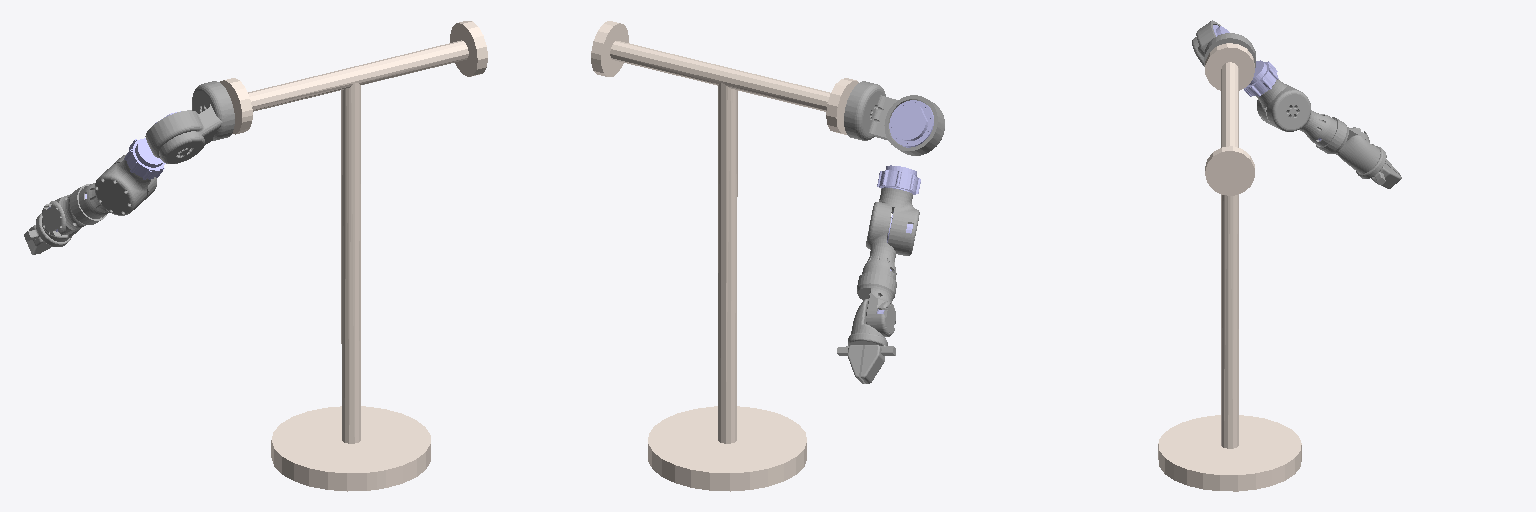
--- Facts derived from the render (not from the file) ---
Views: 3 orthographic renders of the robot side by side, from view 1: azimuth 30°, elevation 25°; view 2: azimuth 150°, elevation 25°; view 3: azimuth 270°, elevation 25°.
Robot: humanoid_arm_5dof_1.2 — 23 links, 22 joints (6 revolute, 2 prismatic, 14 fixed); root link base_link; default pose: every joint at zero.
Visible links, largest first — view 1: base_link, left_shoulder_pitch, left_shoulder_yaw, left_wrist, left_shoulder_yaw_rs03_actuator, left_elbow; view 2: base_link, left_shoulder_pitch, left_wrist, left_elbow, left_shoulder_yaw, left_shoulder_roll_rs04_actuator, left_shoulder_yaw_rs03_actuator, left_palm, left_palm_left_finger; view 3: base_link, left_elbow, left_shoulder_pitch, left_hand, left_shoulder_yaw_rs03_actuator, left_wrist.
Boxes of the visible links, x1=… form: base_link: x1=220, y1=21, x2=487, y2=491; left_shoulder_pitch: x1=145, y1=81, x2=234, y2=163; left_shoulder_yaw: x1=95, y1=160, x2=150, y2=215; left_wrist: x1=42, y1=184, x2=106, y2=235; left_shoulder_yaw_rs03_actuator: x1=124, y1=138, x2=165, y2=179; left_elbow: x1=79, y1=154, x2=156, y2=218; base_link: x1=591, y1=21, x2=858, y2=491; left_shoulder_pitch: x1=844, y1=81, x2=944, y2=155; left_wrist: x1=857, y1=272, x2=896, y2=336; left_elbow: x1=862, y1=202, x2=896, y2=279; left_shoulder_yaw: x1=879, y1=188, x2=919, y2=255; left_shoulder_roll_rs04_actuator: x1=889, y1=100, x2=933, y2=147; left_shoulder_yaw_rs03_actuator: x1=877, y1=165, x2=920, y2=194; left_palm: x1=837, y1=333, x2=895, y2=355; left_palm_left_finger: x1=861, y1=345, x2=884, y2=383; base_link: x1=1158, y1=43, x2=1301, y2=491; left_elbow: x1=1266, y1=87, x2=1336, y2=146; left_shoulder_pitch: x1=1192, y1=20, x2=1255, y2=67; left_hand: x1=1337, y1=135, x2=1380, y2=173; left_shoulder_yaw_rs03_actuator: x1=1244, y1=60, x2=1278, y2=96; left_wrist: x1=1316, y1=117, x2=1369, y2=154.
Size in the robot's own frame: 1.07 by 0.677 by 1.12 metres.
20 mesh visuals loaded from 23 distinct referenced files (20 binary STL); not drawn: 3 (reference not matched to a file when rendering).

URDF robot description (humanoid_arm_5dof_1.2):
<?xml version="1.0" encoding="utf-8"?>
<!-- This URDF was automatically created by SolidWorks to URDF Exporter! Originally created by Stephen Brawner ([email redacted]) 
     Commit Version: 1.6.0-4-g7f85cfe  Build Version: 1.6.7995.38578
     For more information, please see http://wiki.ros.org/sw_urdf_exporter -->
<robot
  name="humanoid_arm_5dof_1.2">
  <link
    name="base_link">
    <inertial>
      <origin
        xyz="-7.688E-08 -6.1286E-07 0.33673"
        rpy="0 0 0" />
      <mass
        value="81.158" />
      <inertia
        ixx="15.828"
        ixy="-6.0733E-06"
        ixz="3.5965E-06"
        iyy="17.002"
        iyz="3.1799E-05"
        izz="2.1791" />
    </inertial>
    <visual>
      <origin
        xyz="0 0 0"
        rpy="0 0 0" />
      <geometry>
        <mesh
          filename="package://humanoid_arm_5dof_1.2/meshes/base_link.STL" />
      </geometry>
      <material
        name="">
        <color
          rgba="1 0.94902 0.9098 1" />
      </material>
    </visual>
    <collision>
      <origin
        xyz="0 0 0"
        rpy="0 0 0" />
      <geometry>
        <mesh
          filename="package://humanoid_arm_5dof_1.2/meshes/base_link.STL" />
      </geometry>
    </collision>
  </link>
  <link
    name="left_shoulder_pitch_rs04_actuator">
    <inertial>
      <origin
        xyz="-0.024532 1.1728E-12 -9.6234E-13"
        rpy="0 0 0" />
      <mass
        value="1.345" />
      <inertia
        ixx="0.00087641"
        ixy="-1.1503E-17"
        ixz="-1.4762E-16"
        iyy="0.0005424"
        iyz="-3.5471E-06"
        izz="0.00054116" />
    </inertial>
    <visual>
      <origin
        xyz="0 0 0"
        rpy="0 0 0" />
      <geometry>
        <mesh
          filename="package://humanoid_arm_5dof_1.2/meshes/left_shoulder_pitch_rs04_actuator.STL" />
      </geometry>
      <material
        name="">
        <color
          rgba="0.82353 0.82353 1 1" />
      </material>
    </visual>
    <collision>
      <origin
        xyz="0 0 0"
        rpy="0 0 0" />
      <geometry>
        <mesh
          filename="package://humanoid_arm_5dof_1.2/meshes/left_shoulder_pitch_rs04_actuator.STL" />
      </geometry>
    </collision>
  </link>
  <joint
    name="left_shoulder_pitch_rs04_actuator_fixture_link"
    type="fixed">
    <origin
      xyz="-0.407699999999937 0 1.05000000000147"
      rpy="-0.638663834670851 0 3.14159265358979" />
    <parent
      link="base_link" />
    <child
      link="left_shoulder_pitch_rs04_actuator" />
    <axis
      xyz="0 0 0" />
  </joint>
  <link
    name="left_shoulder_pitch_rs04_flange">
    <inertial>
      <origin
        xyz="-0.0018894 -9.5572E-05 2.5808E-05"
        rpy="0 0 0" />
      <mass
        value="0.0075" />
      <inertia
        ixx="2.3623E-06"
        ixy="8.4902E-21"
        ixz="-1.0813E-20"
        iyy="1.1941E-06"
        iyz="3.7058E-21"
        izz="1.1941E-06" />
    </inertial>
    <visual>
      <origin
        xyz="0 0 0"
        rpy="0 0 0" />
      <geometry>
        <mesh
          filename="package://humanoid_arm_5dof_1.2/meshes/left_shoulder_pitch_rs04_flange.STL" />
      </geometry>
      <material
        name="">
        <color
          rgba="0.82353 0.82353 1 1" />
      </material>
    </visual>
    <collision>
      <origin
        xyz="0 0 0"
        rpy="0 0 0" />
      <geometry>
        <mesh
          filename="package://humanoid_arm_5dof_1.2/meshes/left_shoulder_pitch_rs04_flange.STL" />
      </geometry>
    </collision>
  </link>
  <joint
    name="left_shoulder_pitch_rs04"
    type="revolute">
    <origin
      xyz="0 0 0"
      rpy="0 0 0" />
    <parent
      link="left_shoulder_pitch_rs04_actuator" />
    <child
      link="left_shoulder_pitch_rs04_flange" />
    <axis
      xyz="1 0 0" />
    <limit
      lower="-3.14"
      upper="3.14"
      effort="120"
      velocity="3" />
    <safety_controller
      soft_upper_limit="3.14"
      soft_lower_limit="-3.14"
      k_velocity="0" />
  </joint>
  <link
    name="left_shoulder_pitch">
    <inertial>
      <origin
        xyz="0.068247 0.039551 -5.234E-06"
        rpy="0 0 0" />
      <mass
        value="0.3" />
      <inertia
        ixx="0.0043457"
        ixy="-0.0020544"
        ixz="-3.8776E-07"
        iyy="0.0075578"
        iyz="-1.6186E-07"
        izz="0.0076907" />
    </inertial>
    <visual>
      <origin
        xyz="0 0 0"
        rpy="0 0 0" />
      <geometry>
        <mesh
          filename="package://humanoid_arm_5dof_1.2/meshes/left_shoulder_pitch.STL" />
      </geometry>
      <material
        name="">
        <color
          rgba="0.69804 0.69804 0.69804 1" />
      </material>
    </visual>
    <collision>
      <origin
        xyz="0 0 0"
        rpy="0 0 0" />
      <geometry>
        <mesh
          filename="package://humanoid_arm_5dof_1.2/meshes/left_shoulder_pitch.STL" />
      </geometry>
    </collision>
  </link>
  <joint
    name="left_shoulder_pitch_fixture"
    type="fixed">
    <origin
      xyz="0 0 0"
      rpy="0 0 0" />
    <parent
      link="left_shoulder_pitch_rs04_flange" />
    <child
      link="left_shoulder_pitch" />
    <axis
      xyz="0 0 0" />
  </joint>
  <link
    name="left_shoulder_roll_rs04_flange">
    <inertial>
      <origin
        xyz="-8.0793E-12 -0.0021106 2.1538E-10"
        rpy="0 0 0" />
      <mass
        value="0.0075" />
      <inertia
        ixx="1.1941E-06"
        ixy="2.5808E-22"
        ixz="8.6027E-22"
        iyy="2.3623E-06"
        iyz="-4.903E-15"
        izz="1.1941E-06" />
    </inertial>
    <visual>
      <origin
        xyz="0 0 0"
        rpy="0 0 0" />
      <geometry>
        <mesh
          filename="package://humanoid_arm_5dof_1.2/meshes/left_shoulder_roll_rs04_flange.STL" />
      </geometry>
      <material
        name="">
        <color
          rgba="0.82353 0.82353 1 1" />
      </material>
    </visual>
    <collision>
      <origin
        xyz="0 0 0"
        rpy="0 0 0" />
      <geometry>
        <mesh
          filename="package://humanoid_arm_5dof_1.2/meshes/left_shoulder_roll_rs04_flange.STL" />
      </geometry>
    </collision>
  </link>
  <joint
    name="left_shoulder_roll_rs04_flange"
    type="fixed">
    <origin
      xyz="0.116775431275821 0.0487000000004332 -2.70558071411298E-05"
      rpy="0 0 3.14159265358979" />
    <parent
      link="left_shoulder_pitch" />
    <child
      link="left_shoulder_roll_rs04_flange" />
    <axis
      xyz="0 0 0" />
  </joint>
  <link
    name="left_shoulder_roll_rs04_actuator">
    <inertial>
      <origin
        xyz="7.5431E-05 0.020532 2.7056E-05"
        rpy="0 0 0" />
      <mass
        value="1.345" />
      <inertia
        ixx="0.00054201"
        ixy="-1.5116E-14"
        ixz="-3.5941E-06"
        iyy="0.00087641"
        iyz="-1.4055E-12"
        izz="0.00054156" />
    </inertial>
    <visual>
      <origin
        xyz="0 0 0"
        rpy="0 0 0" />
      <geometry>
        <mesh
          filename="package://humanoid_arm_5dof_1.2/meshes/left_shoulder_roll_rs04_actuator.STL" />
      </geometry>
      <material
        name="">
        <color
          rgba="0.82353 0.82353 1 1" />
      </material>
    </visual>
    <collision>
      <origin
        xyz="0 0 0"
        rpy="0 0 0" />
      <geometry>
        <mesh
          filename="package://humanoid_arm_5dof_1.2/meshes/left_shoulder_roll_rs04_actuator.STL" />
      </geometry>
    </collision>
  </link>
  <joint
    name="left_shoulder_roll_rs04"
    type="revolute">
    <origin
      xyz="0 0 0"
      rpy="0 0 0" />
    <parent
      link="left_shoulder_roll_rs04_flange" />
    <child
      link="left_shoulder_roll_rs04_actuator" />
    <axis
      xyz="0 -1 0" />
    <limit
      lower="-3.5"
      upper="0.6"
      effort="120"
      velocity="3" />
    <safety_controller
      soft_upper_limit="3.14"
      soft_lower_limit="-3.14"
      k_velocity="0" />
  </joint>
  <link
    name="left_shoulder_roll">
    <inertial>
      <origin
        xyz="-0.0075223 0.049755 -0.055681"
        rpy="0 0 0" />
      <mass
        value="0.2494" />
      <inertia
        ixx="0.0066808"
        ixy="-0.00010577"
        ixz="-0.00053776"
        iyy="0.0073988"
        iyz="-0.0008009"
        izz="0.0022285" />
    </inertial>
    <visual>
      <origin
        xyz="0 0 0"
        rpy="0 0 0" />
      <geometry>
        <mesh
          filename="package://humanoid_arm_5dof_1.2/meshes/left_shoulder_roll.STL" />
      </geometry>
      <material
        name="">
        <color
          rgba="0.69804 0.69804 0.69804 1" />
      </material>
    </visual>
    <collision>
      <origin
        xyz="0 0 0"
        rpy="0 0 0" />
      <geometry>
        <mesh
          filename="package://humanoid_arm_5dof_1.2/meshes/left_shoulder_roll.STL" />
      </geometry>
    </collision>
  </link>
  <joint
    name="left_shoulde_roll_fixture"
    type="fixed">
    <origin
      xyz="0 0 0"
      rpy="0 0 0" />
    <parent
      link="left_shoulder_roll_rs04_actuator" />
    <child
      link="left_shoulder_roll" />
    <axis
      xyz="0 0 0" />
  </joint>
  <link
    name="left_shoulder_yaw_rs03_actuator">
    <inertial>
      <origin
        xyz="-0.00013735 -0.00027 0.025084"
        rpy="0 0 0" />
      <mass
        value="0.83" />
      <inertia
        ixx="0.00027432"
        ixy="-2.0735E-06"
        ixz="-2.5625E-07"
        iyy="0.00027129"
        iyz="-5.1493E-07"
        izz="0.00038166" />
    </inertial>
    <visual>
      <origin
        xyz="0 0 0"
        rpy="0 0 0" />
      <geometry>
        <mesh
          filename="package://humanoid_arm_5dof_1.2/meshes/left_shoulder_yaw_rs03_actuator.STL" />
      </geometry>
      <material
        name="">
        <color
          rgba="0.82353 0.82353 1 1" />
      </material>
    </visual>
    <collision>
      <origin
        xyz="0 0 0"
        rpy="0 0 0" />
      <geometry>
        <mesh
          filename="package://humanoid_arm_5dof_1.2/meshes/left_shoulder_yaw_rs03_actuator.STL" />
      </geometry>
    </collision>
  </link>
  <joint
    name="left_shoulder_yaw_rs03_actuator_fixture_link"
    type="fixed">
    <origin
      xyz="-0.0219716026665047 0.037700000000231 -0.173578614834026"
      rpy="0.0571232415871479 0.112571267005327 0.470875575147914" />
    <parent
      link="left_shoulder_roll" />
    <child
      link="left_shoulder_yaw_rs03_actuator" />
    <axis
      xyz="0 0 0" />
  </joint>
  <link
    name="left_shoulder_yaw_rs03_flange">
    <inertial>
      <origin
        xyz="-2.7103E-10 -6.8048E-10 -0.0012563"
        rpy="0 0 0" />
      <mass
        value="0.005" />
      <inertia
        ixx="5.6768E-07"
        ixy="7.974E-22"
        ixz="9.3141E-22"
        iyy="5.6768E-07"
        iyz="2.647E-23"
        izz="1.1311E-06" />
    </inertial>
    <visual>
      <origin
        xyz="0 0 0"
        rpy="0 0 0" />
      <geometry>
        <mesh
          filename="package://humanoid_arm_5dof_1.2/meshes/left_shoulder_yaw_rs03_flange.STL" />
      </geometry>
      <material
        name="">
        <color
          rgba="0.82353 0.82353 1 1" />
      </material>
    </visual>
    <collision>
      <origin
        xyz="0 0 0"
        rpy="0 0 0" />
      <geometry>
        <mesh
          filename="package://humanoid_arm_5dof_1.2/meshes/left_shoulder_yaw_rs03_flange.STL" />
      </geometry>
    </collision>
  </link>
  <joint
    name="left_shoulder_yaw_rs03"
    type="revolute">
    <origin
      xyz="0 0 0"
      rpy="0 0 0" />
    <parent
      link="left_shoulder_yaw_rs03_actuator" />
    <child
      link="left_shoulder_yaw_rs03_flange" />
    <axis
      xyz="0 0 1" />
    <limit
      lower="-3.14"
      upper="3.14"
      effort="60"
      velocity="1.6" />
    <safety_controller
      soft_upper_limit="3.14"
      soft_lower_limit="-3.14"
      k_velocity="0" />
  </joint>
  <link
    name="left_shoulder_yaw_flange">
    <inertial>
      <origin
        xyz="-2.2487E-10 -3.6886E-10 -0.0089804"
        rpy="0 0 0" />
      <mass
        value="0.0089" />
      <inertia
        ixx="1.2318E-05"
        ixy="-9.4259E-08"
        ixz="4.4902E-16"
        iyy="1.1992E-05"
        iyz="-6.0556E-16"
        izz="2.339E-05" />
    </inertial>
    <visual>
      <origin
        xyz="0 0 0"
        rpy="0 0 0" />
      <geometry>
        <mesh
          filename="package://humanoid_arm_5dof_1.2/meshes/left_shoulder_yaw_flange.STL" />
      </geometry>
      <material
        name="">
        <color
          rgba="0.69804 0.69804 0.69804 1" />
      </material>
    </visual>
    <collision>
      <origin
        xyz="0 0 0"
        rpy="0 0 0" />
      <geometry>
        <mesh
          filename="package://humanoid_arm_5dof_1.2/meshes/left_shoulder_yaw_flange.STL" />
      </geometry>
    </collision>
  </link>
  <joint
    name="left_shoulder_yaw_flange_fixture"
    type="fixed">
    <origin
      xyz="0 0 0"
      rpy="0 0 0" />
    <parent
      link="left_shoulder_yaw_rs03_flange" />
    <child
      link="left_shoulder_yaw_flange" />
    <axis
      xyz="0 0 0" />
  </joint>
  <link
    name="left_shoulder_yaw">
    <inertial>
      <origin
        xyz="-0.027609 1.0121E-06 -0.076632"
        rpy="0 0 0" />
      <mass
        value="0.122" />
      <inertia
        ixx="0.0018364"
        ixy="2.5971E-07"
        ixz="-0.00033902"
        iyy="0.0016454"
        iyz="8.6387E-08"
        izz="0.0010145" />
    </inertial>
    <visual>
      <origin
        xyz="0 0 0"
        rpy="0 0 0" />
      <geometry>
        <mesh
          filename="package://humanoid_arm_5dof_1.2/meshes/left_shoulder_yaw.STL" />
      </geometry>
      <material
        name="">
        <color
          rgba="0.69804 0.69804 0.69804 1" />
      </material>
    </visual>
    <collision>
      <origin
        xyz="0 0 0"
        rpy="0 0 0" />
      <geometry>
        <mesh
          filename="package://humanoid_arm_5dof_1.2/meshes/left_shoulder_yaw.STL" />
      </geometry>
    </collision>
  </link>
  <joint
    name="left_shoulder_yaw_fixture"
    type="fixed">
    <origin
      xyz="0 0 0"
      rpy="0 0 0" />
    <parent
      link="left_shoulder_yaw_flange" />
    <child
      link="left_shoulder_yaw" />
    <axis
      xyz="0 0 0" />
  </joint>
  <link
    name="left_elbow_rs03_actuator">
    <inertial>
      <origin
        xyz="-0.025084 8.1191E-07 -0.00030291"
        rpy="0 0 0" />
      <mass
        value="0.83" />
      <inertia
        ixx="0.00038166"
        ixy="3.1874E-09"
        ixz="5.7519E-07"
        iyy="0.00027537"
        iyz="1.1044E-08"
        izz="0.00027024" />
    </inertial>
    <visual>
      <origin
        xyz="0 0 0"
        rpy="0 0 0" />
      <geometry>
        <mesh
          filename="package://humanoid_arm_5dof_1.2/meshes/left_elbow_rs03_actuator.STL" />
      </geometry>
      <material
        name="">
        <color
          rgba="0.82353 0.82353 1 1" />
      </material>
    </visual>
    <collision>
      <origin
        xyz="0 0 0"
        rpy="0 0 0" />
      <geometry>
        <mesh
          filename="package://humanoid_arm_5dof_1.2/meshes/left_elbow_rs03_actuator.STL" />
      </geometry>
    </collision>
  </link>
  <joint
    name="left_elbow_rs03_actuator_ficture_link"
    type="fixed">
    <origin
      xyz="0 0 -0.0987"
      rpy="0 0 0" />
    <parent
      link="left_shoulder_yaw" />
    <child
      link="left_elbow_rs03_actuator" />
    <axis
      xyz="0 0 0" />
  </joint>
  <link
    name="left_elbow_rs03_flange">
    <inertial>
      <origin
        xyz="0.0012563 -1.3768E-09 -1.6639E-10"
        rpy="0 0 0" />
      <mass
        value="0.005" />
      <inertia
        ixx="1.1311E-06"
        ixy="1.3533E-21"
        ixz="4.839E-21"
        iyy="5.6768E-07"
        iyz="-3.4411E-22"
        izz="5.6768E-07" />
    </inertial>
    <visual>
      <origin
        xyz="0 0 0"
        rpy="0 0 0" />
      <geometry>
        <mesh
          filename="package://humanoid_arm_5dof_1.2/meshes/left_elbow_rs03_flange.STL" />
      </geometry>
      <material
        name="">
        <color
          rgba="0.82353 0.82353 1 1" />
      </material>
    </visual>
    <collision>
      <origin
        xyz="0 0 0"
        rpy="0 0 0" />
      <geometry>
        <mesh
          filename="package://humanoid_arm_5dof_1.2/meshes/left_elbow_rs03_flange.STL" />
      </geometry>
    </collision>
  </link>
  <joint
    name="left_elbow_rs03"
    type="revolute">
    <origin
      xyz="0 0 0"
      rpy="0 0 0" />
    <parent
      link="left_elbow_rs03_actuator" />
    <child
      link="left_elbow_rs03_flange" />
    <axis
      xyz="-1 0 0" />
    <limit
      lower="-1.3"
      upper="1.9"
      effort="60"
      velocity="1.6" />
    <safety_controller
      soft_upper_limit="3.14"
      soft_lower_limit="-3.14"
      k_velocity="0" />
  </joint>
  <link
    name="left_elbow">
    <inertial>
      <origin
        xyz="0.020821 0.0089724 -0.03236"
        rpy="0 0 0" />
      <mass
        value="0.1948" />
      <inertia
        ixx="0.0036503"
        ixy="0.00012418"
        ixz="-0.00045842"
        iyy="0.0031234"
        iyz="0.00057257"
        izz="0.001216" />
    </inertial>
    <visual>
      <origin
        xyz="0 0 0"
        rpy="0 0 0" />
      <geometry>
        <mesh
          filename="package://humanoid_arm_5dof_1.2/meshes/left_elbow.STL" />
      </geometry>
      <material
        name="">
        <color
          rgba="0.69804 0.69804 0.69804 1" />
      </material>
    </visual>
    <collision>
      <origin
        xyz="0 0 0"
        rpy="0 0 0" />
      <geometry>
        <mesh
          filename="package://humanoid_arm_5dof_1.2/meshes/left_elbow.STL" />
      </geometry>
    </collision>
  </link>
  <joint
    name="left_elbow_fixture"
    type="fixed">
    <origin
      xyz="0 0 0"
      rpy="0 0 0" />
    <parent
      link="left_elbow_rs03_flange" />
    <child
      link="left_elbow" />
    <axis
      xyz="0 0 0" />
  </joint>
  <link
    name="left_wrist_actuator">
    <inertial>
      <origin
        xyz="-6.2923E-10 -0.023014 2.7886E-07"
        rpy="0 0 0" />
      <mass
        value="0.38" />
      <inertia
        ixx="8.809E-05"
        ixy="-1.0044E-17"
        ixz="-7.7715E-20"
        iyy="0.000127"
        iyz="3.6849E-17"
        izz="8.809E-05" />
    </inertial>
    <visual>
      <origin
        xyz="0 0 0"
        rpy="0 0 0" />
      <geometry>
        <mesh
          filename="package://humanoid_arm_5dof_1.2/meshes/left_wrist_actuator.STL" />
      </geometry>
      <material
        name="">
        <color
          rgba="0.82353 0.82353 1 1" />
      </material>
    </visual>
    <collision>
      <origin
        xyz="0 0 0"
        rpy="0 0 0" />
      <geometry>
        <mesh
          filename="package://humanoid_arm_5dof_1.2/meshes/left_wrist_actuator.STL" />
      </geometry>
    </collision>
  </link>
  <joint
    name="left_wrist_rs02_actuator_fixture_link"
    type="fixed">
    <origin
      xyz="0.00550000028936815 0.0440612514790653 -0.158489293351936"
      rpy="-1.29963429793404 0 0" />
    <parent
      link="left_elbow" />
    <child
      link="left_wrist_actuator" />
    <axis
      xyz="0 0 0" />
  </joint>
  <link
    name="left_wrist_rs02_flange">
    <inertial>
      <origin
        xyz="-6.0001E-10 -0.0019899 2.782E-07"
        rpy="0 0 0" />
      <mass
        value="0.0025" />
      <inertia
        ixx="1.3495E-07"
        ixy="8.379E-20"
        ixz="-2.6635E-22"
        iyy="2.634E-07"
        iyz="1.01E-19"
        izz="1.3495E-07" />
    </inertial>
    <visual>
      <origin
        xyz="0 0 0"
        rpy="0 0 0" />
      <geometry>
        <mesh
          filename="package://humanoid_arm_5dof_1.2/meshes/left_wrist_rs02_flange.STL" />
      </geometry>
      <material
        name="">
        <color
          rgba="0.82353 0.82353 1 1" />
      </material>
    </visual>
    <collision>
      <origin
        xyz="0 0 0"
        rpy="0 0 0" />
      <geometry>
        <mesh
          filename="package://humanoid_arm_5dof_1.2/meshes/left_wrist_rs02_flange.STL" />
      </geometry>
    </collision>
  </link>
  <joint
    name="left_wrist_rs02"
    type="revolute">
    <origin
      xyz="0 0 0"
      rpy="0 0 0" />
    <parent
      link="left_wrist_actuator" />
    <child
      link="left_wrist_rs02_flange" />
    <axis
      xyz="0 1 0" />
    <limit
      lower="-3.14"
      upper="3.14"
      effort="17"
      velocity="0.8" />
    <safety_controller
      soft_upper_limit="3.14"
      soft_lower_limit="-3.14"
      k_velocity="0" />
  </joint>
  <link
    name="left_wrist">
    <inertial>
      <origin
        xyz="-0.012628 0.041809 0.0059405"
        rpy="0 0 0" />
      <mass
        value="0.0972" />
      <inertia
        ixx="0.0010421"
        ixy="0.00023897"
        ixz="2.5575E-06"
        iyy="0.00064729"
        iyz="-0.00011195"
        izz="0.0010487" />
    </inertial>
    <visual>
      <origin
        xyz="0 0 0"
        rpy="0 0 0" />
      <geometry>
        <mesh
          filename="package://humanoid_arm_5dof_1.2/meshes/left_wrist.STL" />
      </geometry>
      <material
        name="">
        <color
          rgba="0.69804 0.69804 0.69804 1" />
      </material>
    </visual>
    <collision>
      <origin
        xyz="0 0 0"
        rpy="0 0 0" />
      <geometry>
        <mesh
          filename="package://humanoid_arm_5dof_1.2/meshes/left_wrist.STL" />
      </geometry>
    </collision>
  </link>
  <joint
    name="left_wrist_fixture"
    type="fixed">
    <origin
      xyz="0 0 0"
      rpy="0 0 0" />
    <parent
      link="left_wrist_rs02_flange" />
    <child
      link="left_wrist" />
    <axis
      xyz="0 0 0" />
  </joint>
  <link
    name="left_hand_rs02">
    <inertial>
      <origin
        xyz="-0.023014 2.2389E-07 3.2594E-07"
        rpy="0 0 0" />
      <mass
        value="0.38" />
      <inertia
        ixx="0.000127"
        ixy="2.2647E-11"
        ixz="-1.704E-11"
        iyy="8.809E-05"
        iyz="-9.7506E-18"
        izz="8.809E-05" />
    </inertial>
    <visual>
      <origin
        xyz="0 0 0"
        rpy="0 0 0" />
      <geometry>
        <mesh
          filename="package://humanoid_arm_5dof_1.2/meshes/left_hand_rs02.STL" />
      </geometry>
      <material
        name="">
        <color
          rgba="0.82353 0.82353 1 1" />
      </material>
    </visual>
    <collision>
      <origin
        xyz="0 0 0"
        rpy="0 0 0" />
      <geometry>
        <mesh
          filename="package://humanoid_arm_5dof_1.2/meshes/left_hand_rs02.STL" />
      </geometry>
    </collision>
  </link>
  <joint
    name="left_hand_rs02_fixture_link"
    type="fixed">
    <origin
      xyz="0 0.0944999999997473 0"
      rpy="0.644846111175764 0.444064007774013 0" />
    <parent
      link="left_wrist" />
    <child
      link="left_hand_rs02" />
    <axis
      xyz="0 0 0" />
  </joint>
  <link
    name="left_hand_rs02_flange">
    <inertial>
      <origin
        xyz="-0.0020103 2.3612E-07 3.1674E-07"
        rpy="0 0 0" />
      <mass
        value="0.0025" />
      <inertia
        ixx="2.634E-07"
        ixy="7.4761E-14"
        ixz="-5.6253E-14"
        iyy="1.3495E-07"
        iyz="-3.2489E-20"
        izz="1.3495E-07" />
    </inertial>
    <visual>
      <origin
        xyz="0 0 0"
        rpy="0 0 0" />
      <geometry>
        <mesh
          filename="package://humanoid_arm_5dof_1.2/meshes/left_hand_rs02_flange.STL" />
      </geometry>
      <material
        name="">
        <color
          rgba="0.82353 0.82353 1 1" />
      </material>
    </visual>
    <collision>
      <origin
        xyz="0 0 0"
        rpy="0 0 0" />
      <geometry>
        <mesh
          filename="package://humanoid_arm_5dof_1.2/meshes/left_hand_rs02_flange.STL" />
      </geometry>
    </collision>
  </link>
  <joint
    name="left_hand_rs02"
    type="revolute">
    <origin
      xyz="0 0 0"
      rpy="0 0 0" />
    <parent
      link="left_hand_rs02" />
    <child
      link="left_hand_rs02_flange" />
    <axis
      xyz="0.999999999999735 0 0" />
    <limit
      lower="-1.5"
      upper="1.7"
      effort="17"
      velocity="0.8" />
    <safety_controller
      soft_upper_limit="1.7"
      soft_lower_limit="-1.5"
      k_velocity="0" />
  </joint>
  <link
    name="left_hand">
    <inertial>
      <origin
        xyz="0.011977 0.011477 -0.011141"
        rpy="0 0 0" />
      <mass
        value="0.07138" />
      <inertia
        ixx="0.00044328"
        ixy="2.0211E-05"
        ixz="-2.0027E-05"
        iyy="0.00030939"
        iyz="3.838E-05"
        izz="0.00030916" />
    </inertial>
    <visual>
      <origin
        xyz="0 0 0"
        rpy="0 0 0" />
      <geometry>
        <mesh
          filename="package://humanoid_arm_5dof_1.2/meshes/left_hand.STL" />
      </geometry>
      <material
        name="">
        <color
          rgba="0.69804 0.69804 0.69804 1" />
      </material>
    </visual>
    <collision>
      <origin
        xyz="0 0 0"
        rpy="0 0 0" />
      <geometry>
        <mesh
          filename="package://humanoid_arm_5dof_1.2/meshes/left_hand.STL" />
      </geometry>
    </collision>
  </link>
  <joint
    name="left_hand_fixture"
    type="fixed">
    <origin
      xyz="0 0 0"
      rpy="0 0 0" />
    <parent
      link="left_hand_rs02_flange" />
    <child
      link="left_hand" />
    <axis
      xyz="0 0 0" />
  </joint>
  <link
    name="left_palm">
    <inertial>
      <origin
        xyz="-9.0329E-10 0.0065439 -1.9612E-09"
        rpy="0 0 0" />
      <mass
        value="0.04762" />
      <inertia
        ixx="0.00014804"
        ixy="1.9127E-12"
        ixz="2.4927E-11"
        iyy="0.00037746"
        iyz="3.0997E-12"
        izz="0.00028521" />
    </inertial>
    <visual>
      <origin
        xyz="0 0 0"
        rpy="0 0 0" />
      <geometry>
        <mesh
          filename="package://humanoid_arm_5dof_1.2/meshes/left_palm.STL" />
      </geometry>
      <material
        name="">
        <color
          rgba="0.69804 0.69804 0.69804 1" />
      </material>
    </visual>
    <collision>
      <origin
        xyz="0 0 0"
        rpy="0 0 0" />
      <geometry>
        <mesh
          filename="package://humanoid_arm_5dof_1.2/meshes/left_palm.STL" />
      </geometry>
    </collision>
  </link>
  <joint
    name="left_palm_fixture"
    type="fixed">
    <origin
      xyz="0 0.0468292785877469 -0.0458451123506719"
      rpy="-0.774935929629906 -0.017568105518168 0.0172027241786164" />
    <parent
      link="left_hand" />
    <child
      link="left_palm" />
    <axis
      xyz="0 0 0" />
  </joint>
  <link
    name="left_palm_right_finger">
    <inertial>
      <origin
        xyz="0.017481 0.050369 9.3983E-12"
        rpy="0 0 0" />
      <mass
        value="0.029" />
      <inertia
        ixx="0.00010609"
        ixy="1.2822E-05"
        ixz="-4.1669E-16"
        iyy="4.9057E-05"
        iyz="-3.9835E-16"
        izz="8.8986E-05" />
    </inertial>
    <visual>
      <origin
        xyz="0 0 0"
        rpy="0 0 0" />
      <geometry>
        <mesh
          filename="package://humanoid_arm_5dof_1.2/meshes/left_palm_right_finger.STL" />
      </geometry>
      <material
        name="">
        <color
          rgba="0.69804 0.69804 0.69804 1" />
      </material>
    </visual>
    <collision>
      <origin
        xyz="0 0 0"
        rpy="0 0 0" />
      <geometry>
        <mesh
          filename="package://humanoid_arm_5dof_1.2/meshes/left_palm_right_finger.STL" />
      </geometry>
    </collision>
  </link>
  <joint
    name="left_palm_right_finger"
    type="prismatic">
    <origin
      xyz="0 0 0"
      rpy="0 0 0" />
    <parent
      link="left_palm" />
    <child
      link="left_palm_right_finger" />
    <axis
      xyz="-1 0 0" />
    <limit
      lower="-0.033"
      upper="0.00026"
      effort="0"
      velocity="0" />
    <safety_controller
      soft_upper_limit="0.00026"
      soft_lower_limit="-0.033"
      k_velocity="0" />
  </joint>
  <link
    name="left_palm_left_finger">
    <inertial>
      <origin
        xyz="-0.019739 0.050369 1.0353E-11"
        rpy="0 0 0" />
      <mass
        value="0.029" />
      <inertia
        ixx="0.00010609"
        ixy="-1.2822E-05"
        ixz="-4.6155E-16"
        iyy="4.9057E-05"
        iyz="2.6035E-16"
        izz="8.8986E-05" />
    </inertial>
    <visual>
      <origin
        xyz="0 0 0"
        rpy="0 0 0" />
      <geometry>
        <mesh
          filename="package://humanoid_arm_5dof_1.2/meshes/left_palm_left_finger.STL" />
      </geometry>
      <material
        name="">
        <color
          rgba="0.69804 0.69804 0.69804 1" />
      </material>
    </visual>
    <collision>
      <origin
        xyz="0 0 0"
        rpy="0 0 0" />
      <geometry>
        <mesh
          filename="package://humanoid_arm_5dof_1.2/meshes/left_palm_left_finger.STL" />
      </geometry>
    </collision>
  </link>
  <joint
    name="left_palm_left_finger"
    type="prismatic">
    <origin
      xyz="0 0 0"
      rpy="0 0 0" />
    <parent
      link="left_palm" />
    <child
      link="left_palm_left_finger" />
    <axis
      xyz="-1 0 0" />
    <limit
      lower="-0.0041"
      upper="0.033"
      effort="0"
      velocity="0" />
    <safety_controller
      soft_upper_limit="0.033"
      soft_lower_limit="-0.0041"
      k_velocity="0" />
  </joint>
</robot>
